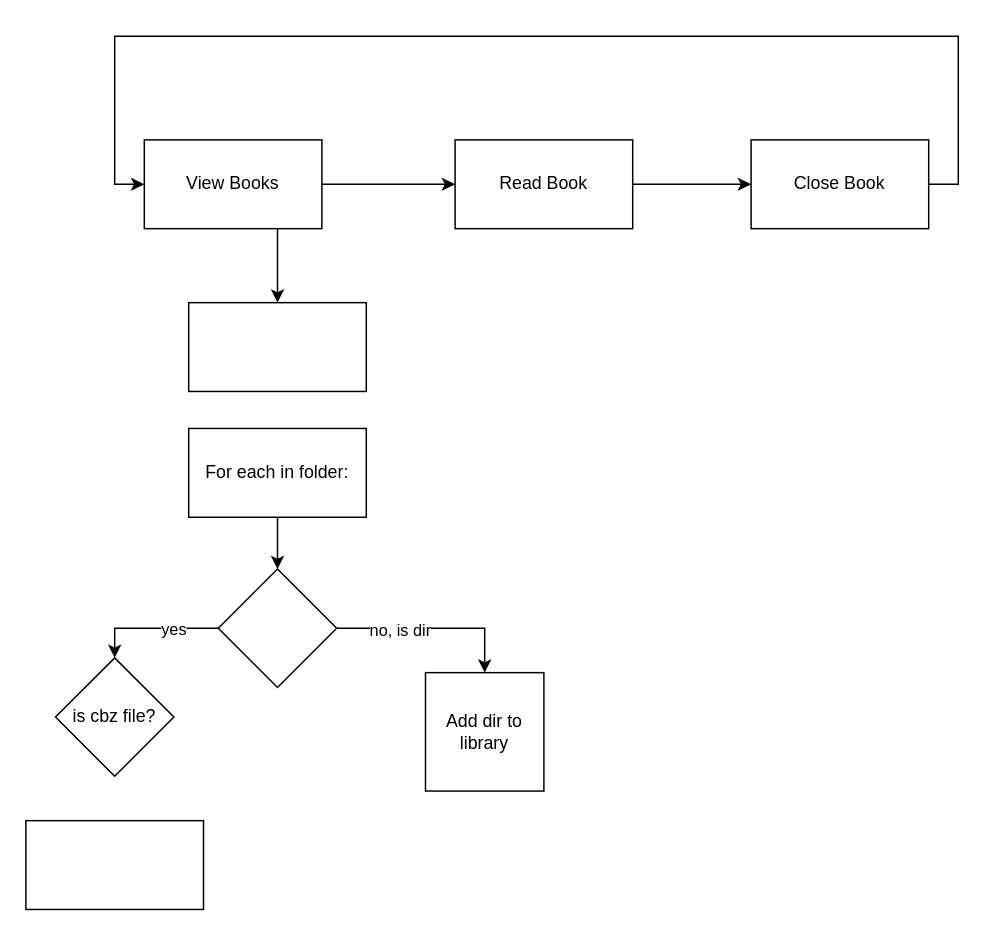
The diagram is 996 pixels wide and 935 high, and some of its shapes have lost their labels. The shapes that lost their labels are listed below. From the top down, each one's centre as x and y in pixels, then its label:
point (276, 346): Add Folder
point (277, 627): is file?
point (114, 864): add cbz to library
